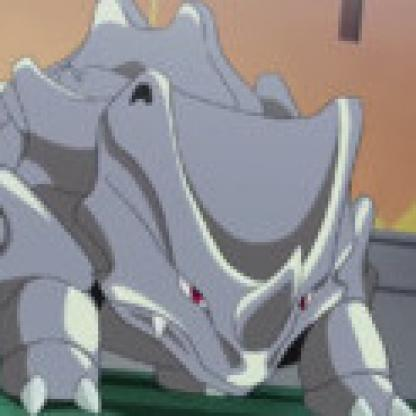Rhyhorn: (1, 1, 410, 414)
